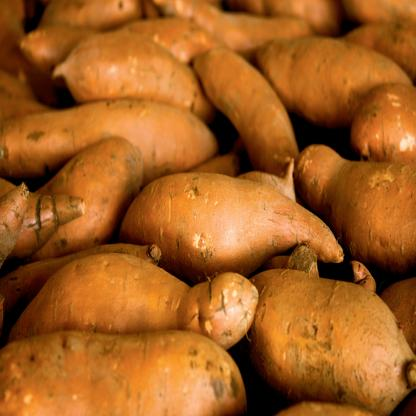---: (117, 163, 365, 273), (237, 273, 416, 405), (191, 43, 297, 177)
